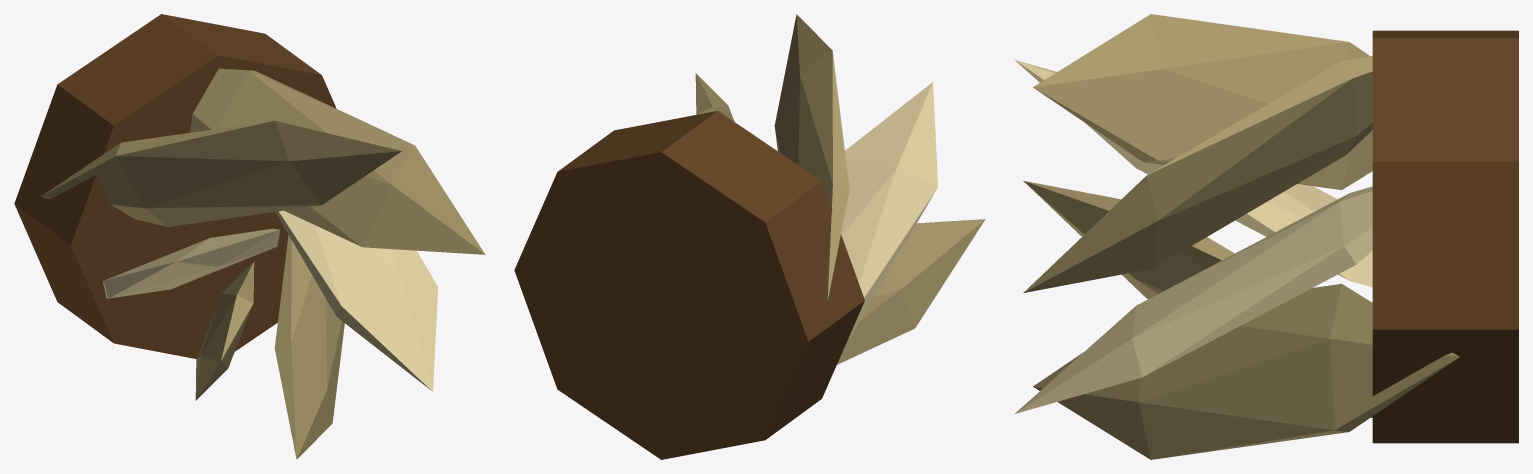
The model's file is 2_sprouting.obj.
3 views of the same model, side by side, from view 1: azimuth 30°, elevation 25°; view 2: azimuth 150°, elevation 25°; view 3: azimuth 270°, elevation 25° (orthographic). The views are drawn at different scales.
Parts seen in each view (by area): view 1: avantoe_2_sprouting; view 2: avantoe_2_sprouting; view 3: avantoe_2_sprouting.
Part boxes in pixels (x1,y1,x2,y2): avantoe_2_sprouting: [14, 14, 485, 459]; avantoe_2_sprouting: [514, 14, 985, 459]; avantoe_2_sprouting: [1015, 14, 1518, 459].
Bounding box in the file's own units: 0.12 × 0.1235 × 0.138.
